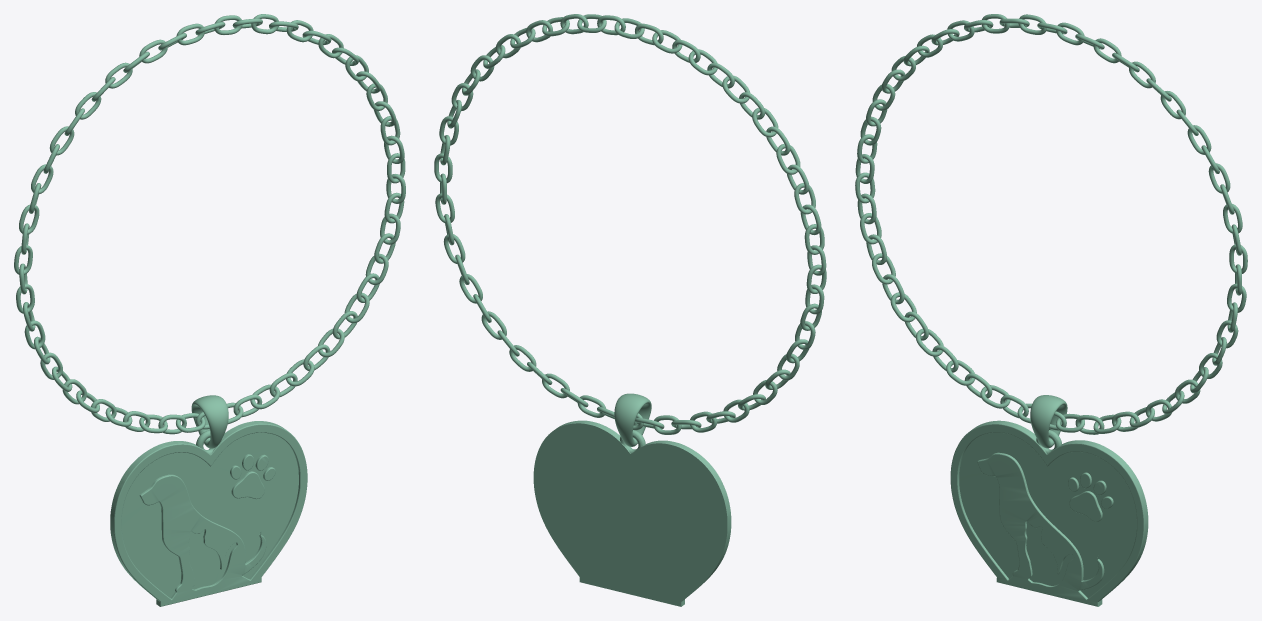
3 renders of one model, left to right at view 1: azimuth 30°, elevation 25°; view 2: azimuth 150°, elevation 25°; view 3: azimuth 330°, elevation 25°, orthographic.
Parts seen in each view (by area): view 1: PingenteGatoComCachorro-P-Render.3dm, Bail; view 2: PingenteGatoComCachorro-P-Render.3dm, Bail; view 3: PingenteGatoComCachorro-P-Render.3dm, Bail.
Part boxes in pixels (x1,y1,x2,y2): PingenteGatoComCachorro-P-Render.3dm: (14,14,405,606); Bail: (191,395,228,448); PingenteGatoComCachorro-P-Render.3dm: (434,14,826,606); Bail: (614,393,651,446); PingenteGatoComCachorro-P-Render.3dm: (855,14,1247,606); Bail: (1030,395,1067,448).
Bounding box in the file's own units: 2.32 × 3.25 × 0.2228.
